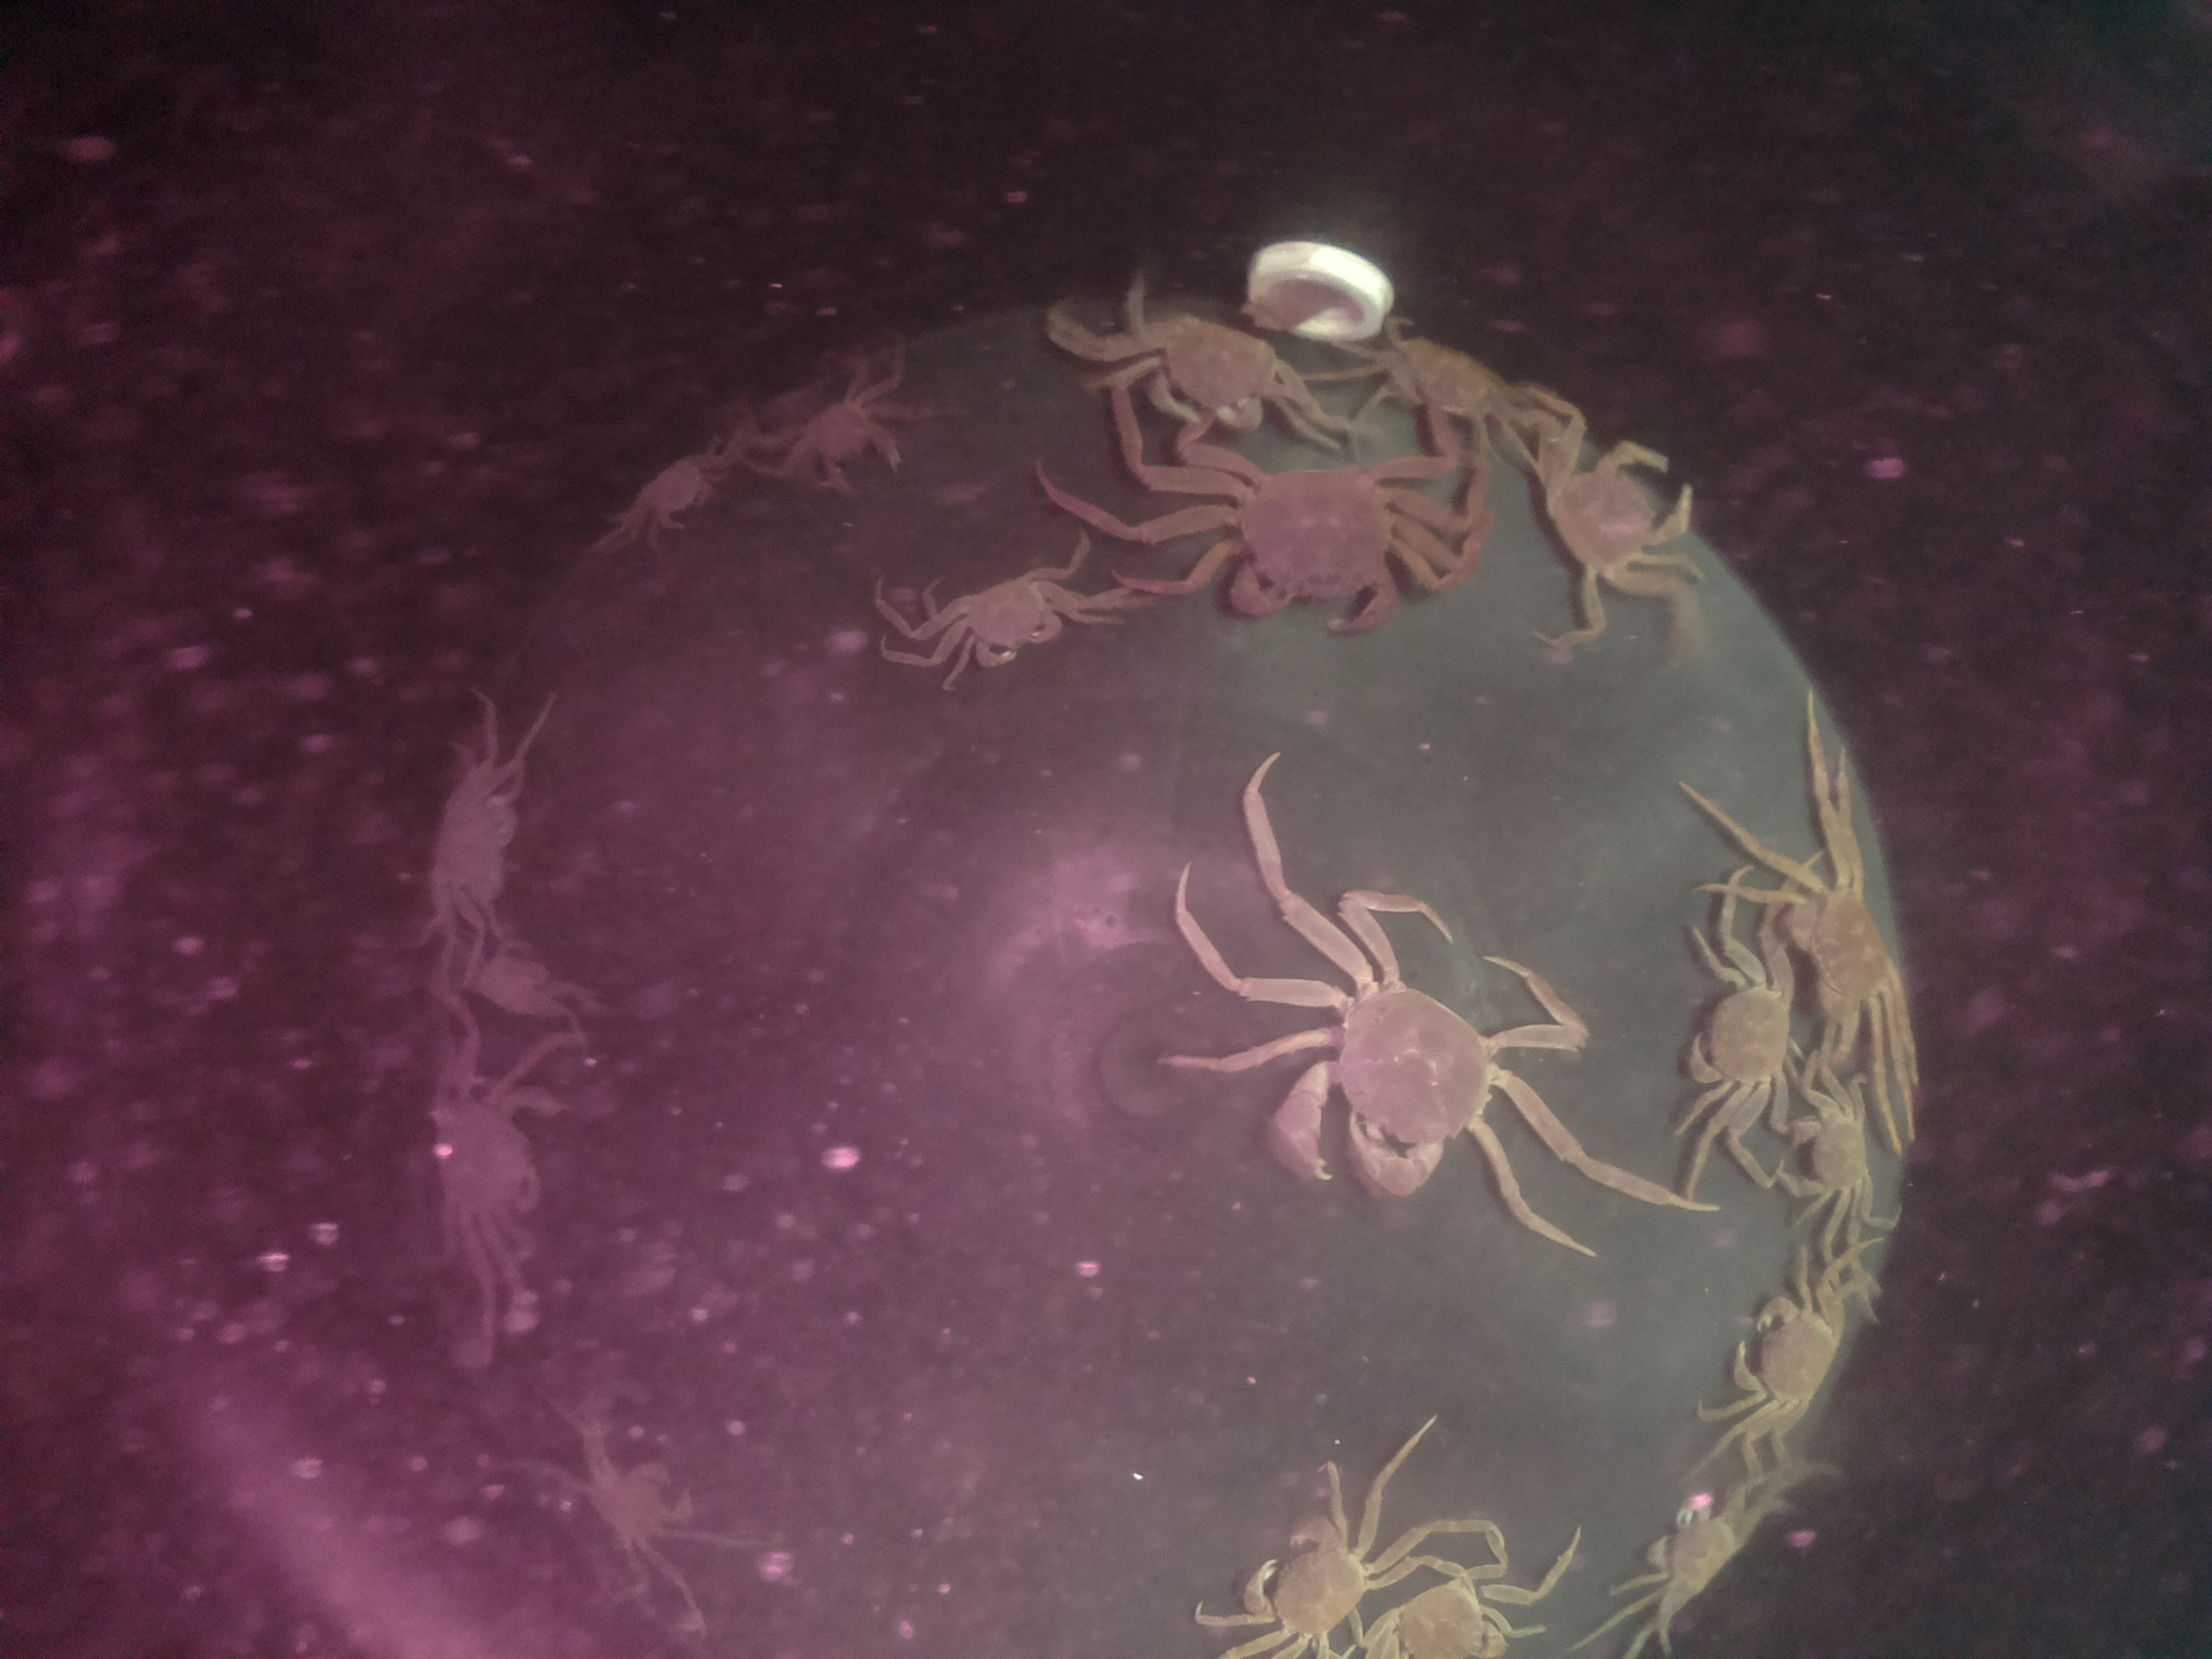Crab: (1233, 953, 1522, 1229), (1183, 446, 1430, 643), (1503, 423, 1712, 596), (1653, 927, 1815, 1126), (1211, 1493, 1388, 1659), (1709, 1272, 1872, 1446), (1616, 1462, 1761, 1635), (935, 552, 1099, 687), (773, 368, 923, 507)
